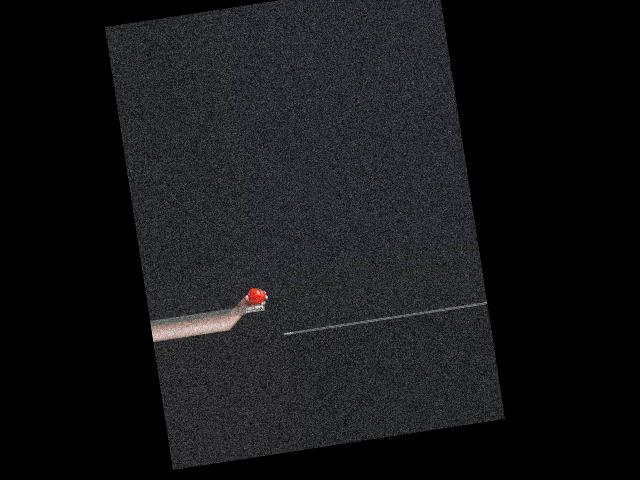tomato: (246, 286, 266, 306)
